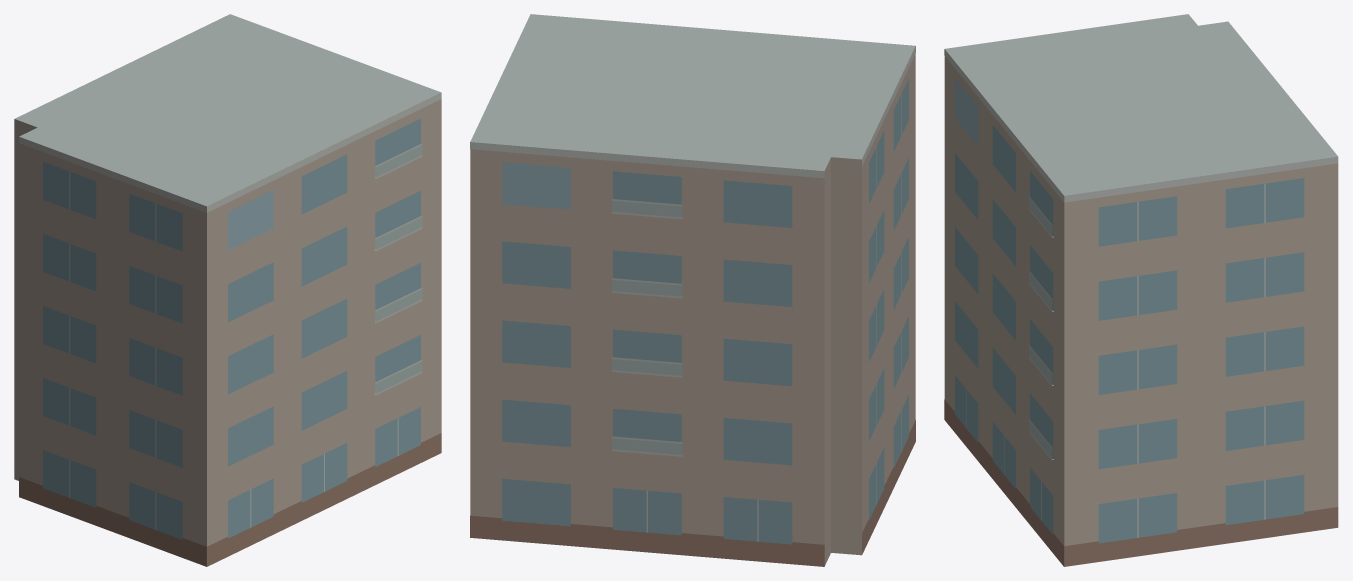
Rendered from survey-upis-32960471.glb.
The picture shows the model from 3 angles, left to right: view 1: azimuth 30°, elevation 25°; view 2: azimuth 150°, elevation 25°; view 3: azimuth 270°, elevation 25°; orthographic projection. The views are drawn at different scales.
Parts seen in each view (by area): view 1: survey-upis-32960471.tmp; view 2: survey-upis-32960471.tmp; view 3: survey-upis-32960471.tmp.
Boxes of the visible parts, box(x1,y1,x2,y2) form: survey-upis-32960471.tmp: box(14, 14, 441, 566); survey-upis-32960471.tmp: box(470, 14, 915, 566); survey-upis-32960471.tmp: box(944, 14, 1338, 566).
Bounding box in the file's own units: 14.2 × 13.5 × 13.
